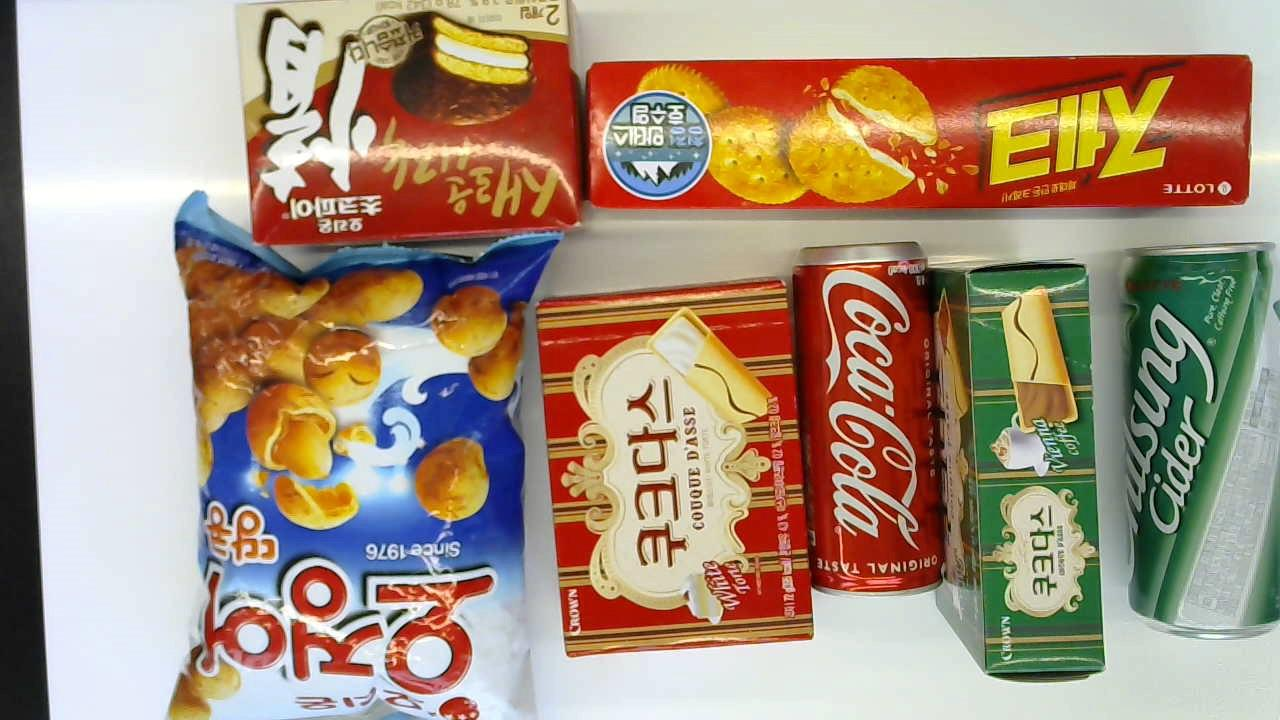chocopie: (228, 1, 586, 246)
cidar: (1117, 237, 1280, 641)
coke: (785, 237, 945, 594)
couque_coffee: (925, 244, 1109, 687)
couque_white: (533, 271, 817, 660)
squid_peanut: (171, 195, 535, 720)
zec: (584, 58, 1252, 213)
